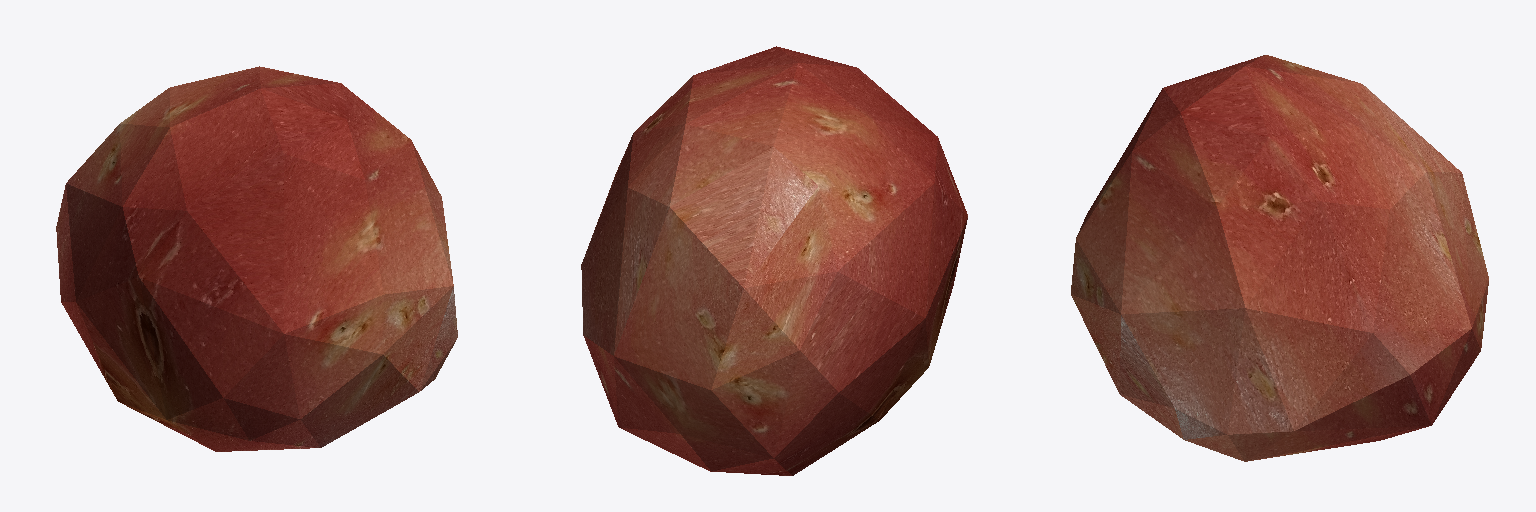
3 views of the same model, side by side, from view 1: azimuth 30°, elevation 25°; view 2: azimuth 150°, elevation 25°; view 3: azimuth 270°, elevation 25° (orthographic).
Parts seen in each view (by area): view 1: Asteroid4, Asteroid2, Asteroid8, Asteroid5, Asteroid6, Asteroid, Asteroid3; view 2: Asteroid5, Asteroid, Asteroid3, Asteroid4, Asteroid7, Asteroid2, Asteroid8; view 3: Asteroid, Asteroid8, Asteroid7, Asteroid6, Asteroid4, Asteroid3, Asteroid5.
Boxes of the visible parts, box(x1,y1,x2,y2) form: Asteroid4: box(123, 89, 383, 353); Asteroid2: box(76, 277, 320, 451); Asteroid8: box(261, 83, 453, 353); Asteroid5: box(56, 87, 258, 301); Asteroid6: box(284, 286, 457, 447); Asteroid: box(174, 66, 337, 88); Asteroid3: box(56, 229, 116, 398); Asteroid5: box(744, 63, 967, 349); Asteroid: box(581, 63, 797, 355); Asteroid3: box(614, 289, 925, 475); Asteroid4: box(778, 47, 967, 214); Asteroid7: box(581, 265, 710, 471); Asteroid2: box(881, 218, 967, 418); Asteroid8: box(696, 46, 797, 74); Asteroid: box(1245, 66, 1471, 332); Asteroid8: box(1071, 67, 1319, 313); Asteroid7: box(1246, 308, 1480, 461); Asteroid6: box(1071, 295, 1293, 461); Asteroid4: box(1076, 55, 1264, 237); Asteroid3: box(1462, 174, 1488, 348); Asteroid5: box(1246, 55, 1449, 161).
Size of the model in its own units: 4.4 by 4.57 by 4.73.
1 materials, 1 textured.